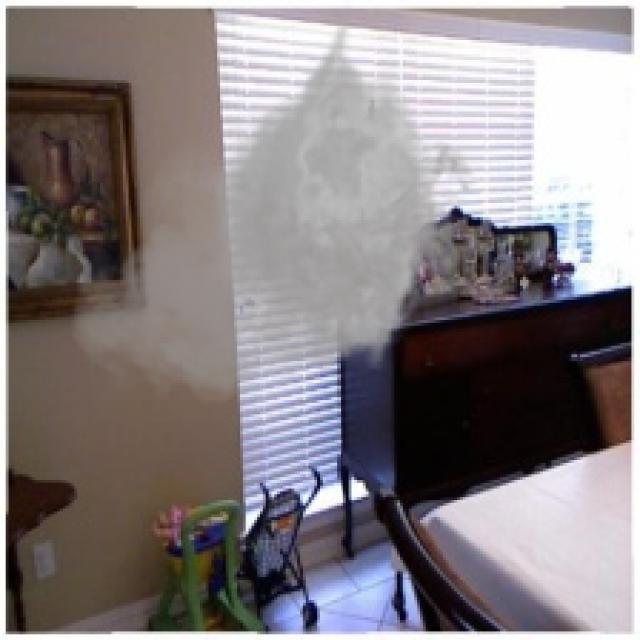Smoke: (65, 0, 489, 415)
